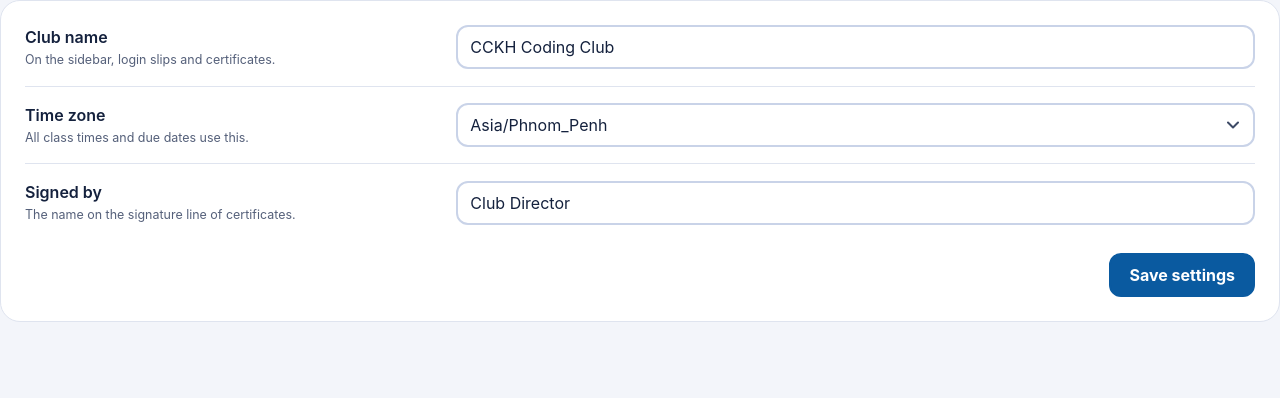
Test: SettingsForm › shows the problem when saving fails
What coordinates should you click on to do the following:
click the button "Save settings"
I would click on:
 (1182, 275)
Its box is [1110,253,1255,297].
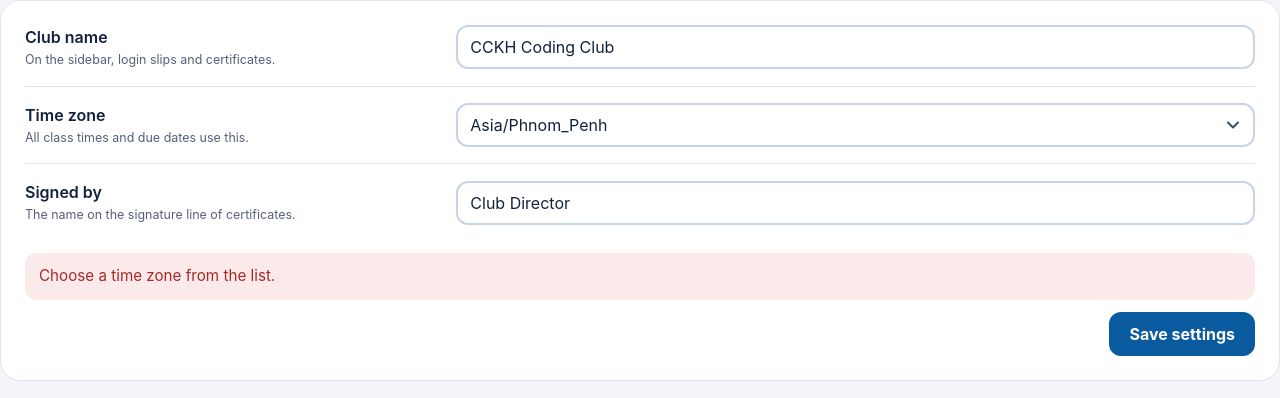
Check: the message reads "Choose a time zone from the list.", box [39,266,275,285]
